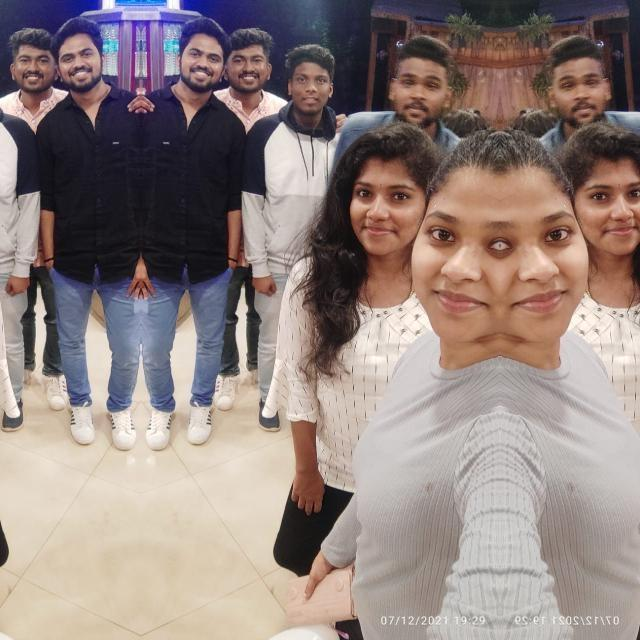person: (312, 120, 438, 514), (408, 132, 500, 638), (499, 132, 591, 638), (140, 7, 238, 436), (42, 7, 140, 436), (561, 119, 640, 514), (256, 38, 350, 222), (384, 40, 454, 132), (546, 40, 614, 132), (0, 37, 24, 222)
